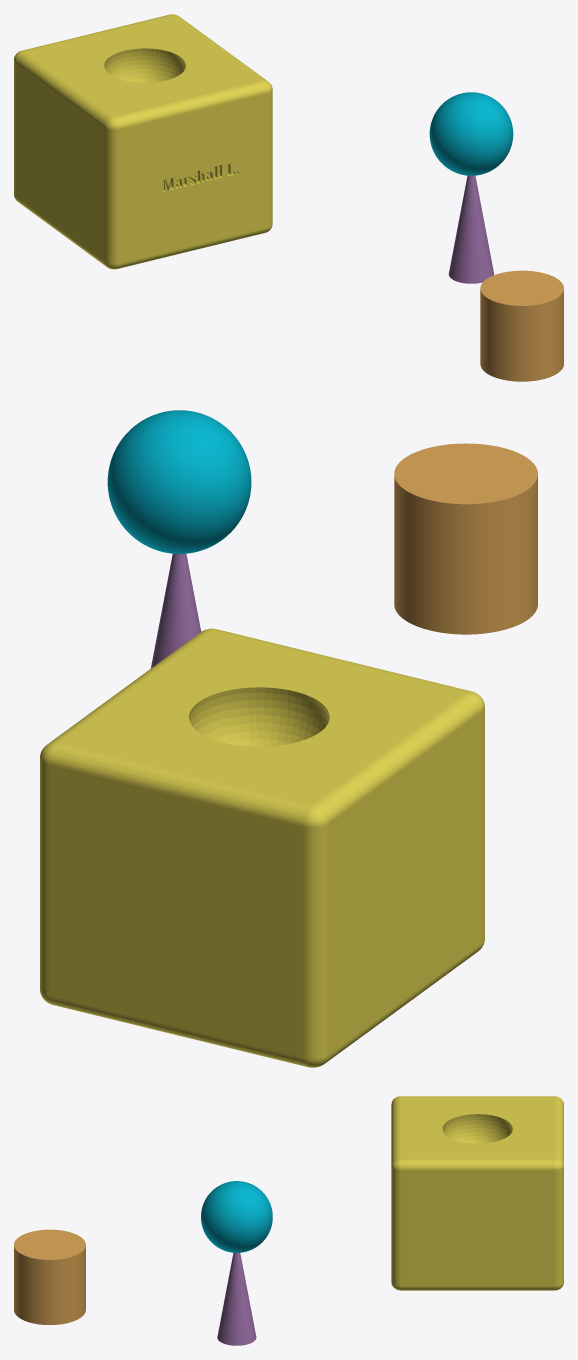
File: Marshall L.glb
3 views of the same model, one above another, from view 1: azimuth 30°, elevation 25°; view 2: azimuth 150°, elevation 25°; view 3: azimuth 270°, elevation 25° (orthographic). The views are drawn at different scales.
Parts seen in each view (by area): view 1: Mesh_Mesh_head_geo.001_lambert2SG.001; view 2: Mesh_Mesh_head_geo.001_lambert2SG.001; view 3: Mesh_Mesh_head_geo.001_lambert2SG.001.
Part boxes in pixels (x1=…): Mesh_Mesh_head_geo.001_lambert2SG.001: x1=14, y1=14, x2=563, y2=381; Mesh_Mesh_head_geo.001_lambert2SG.001: x1=40, y1=410, x2=537, y2=1067; Mesh_Mesh_head_geo.001_lambert2SG.001: x1=14, y1=1096, x2=563, y2=1345.
Bounding box in the file's own units: 0.085 × 0.047 × 0.153.
